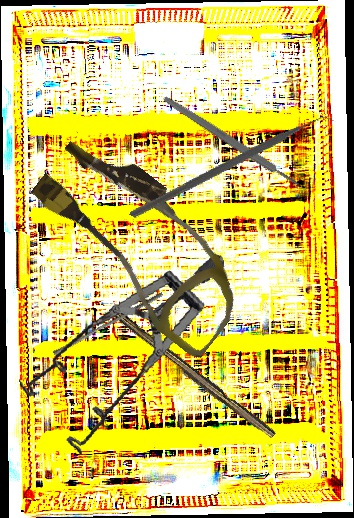Cannula: (11, 123, 271, 362)
Chopper: (129, 55, 341, 284)
Pusher: (52, 287, 164, 360)
Scalpel Handle: (109, 309, 279, 442), (161, 93, 302, 190)
Speculum: (3, 253, 253, 463)
